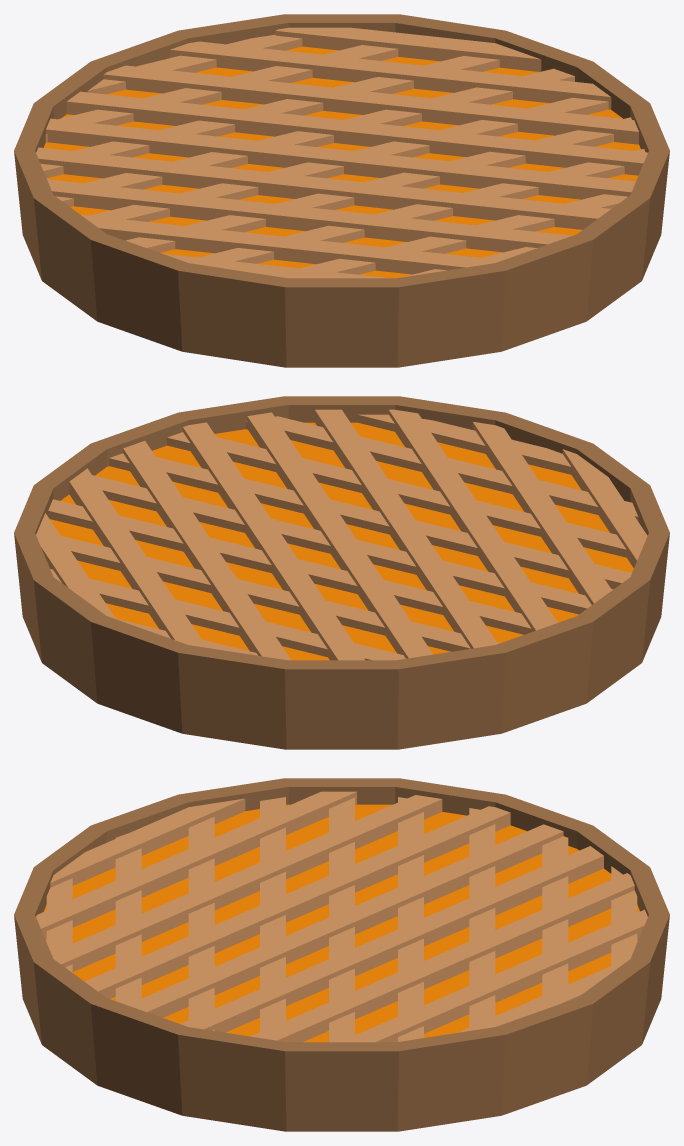
Rendered from ApplePie.fbx.
3 renders of one model, top to bottom at view 1: azimuth 30°, elevation 25°; view 2: azimuth 150°, elevation 25°; view 3: azimuth 270°, elevation 25°, orthographic.
Parts seen in each view (by area): view 1: Cylinder; view 2: Cylinder; view 3: Cylinder.
Part boxes in pixels (left/top/right/bottom): Cylinder: left=14, top=14, right=669, bottom=367; Cylinder: left=14, top=396, right=669, bottom=749; Cylinder: left=14, top=778, right=669, bottom=1131.
Bounding box in the file's own units: 0.2954 × 0.0425 × 0.3.
